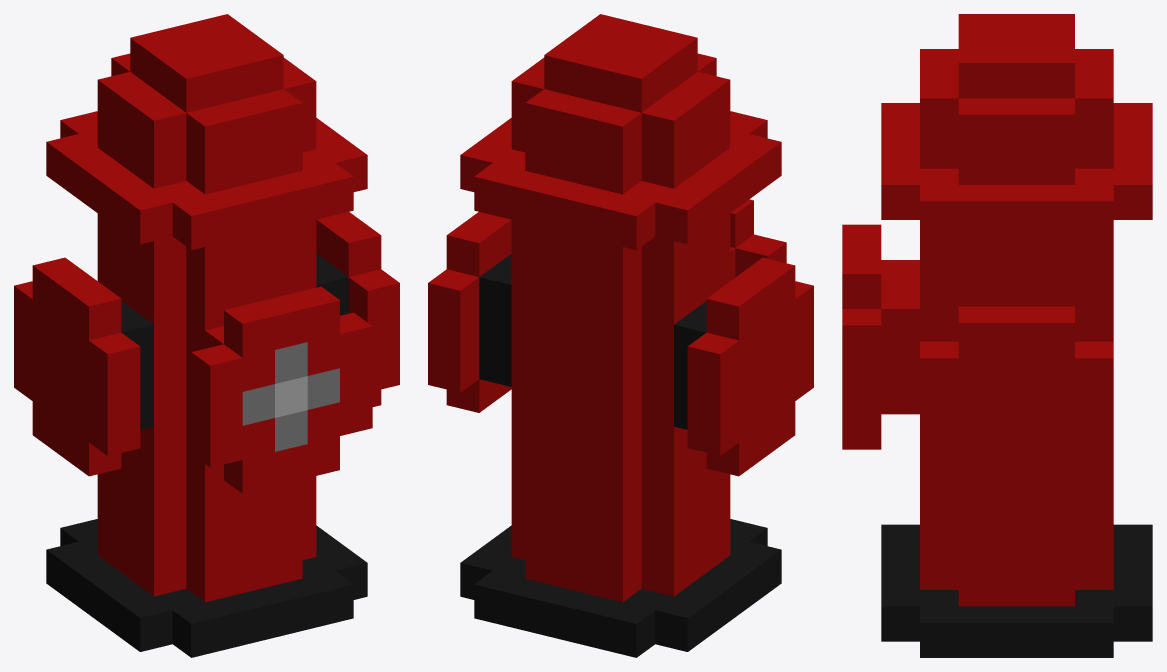
File: gglive_hidrante.obj
The picture shows the model from 3 angles, left to right: view 1: azimuth 30°, elevation 25°; view 2: azimuth 150°, elevation 25°; view 3: azimuth 270°, elevation 25°; orthographic projection. The views are drawn at different scales.
Bounding box in the file's own units: 9 × 16 × 8.
Materials: 1 (1 with a texture image).
